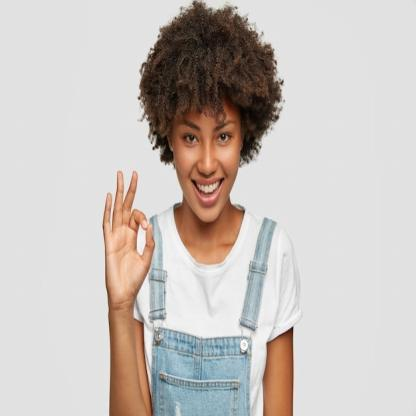stop: (100, 168, 160, 322)
